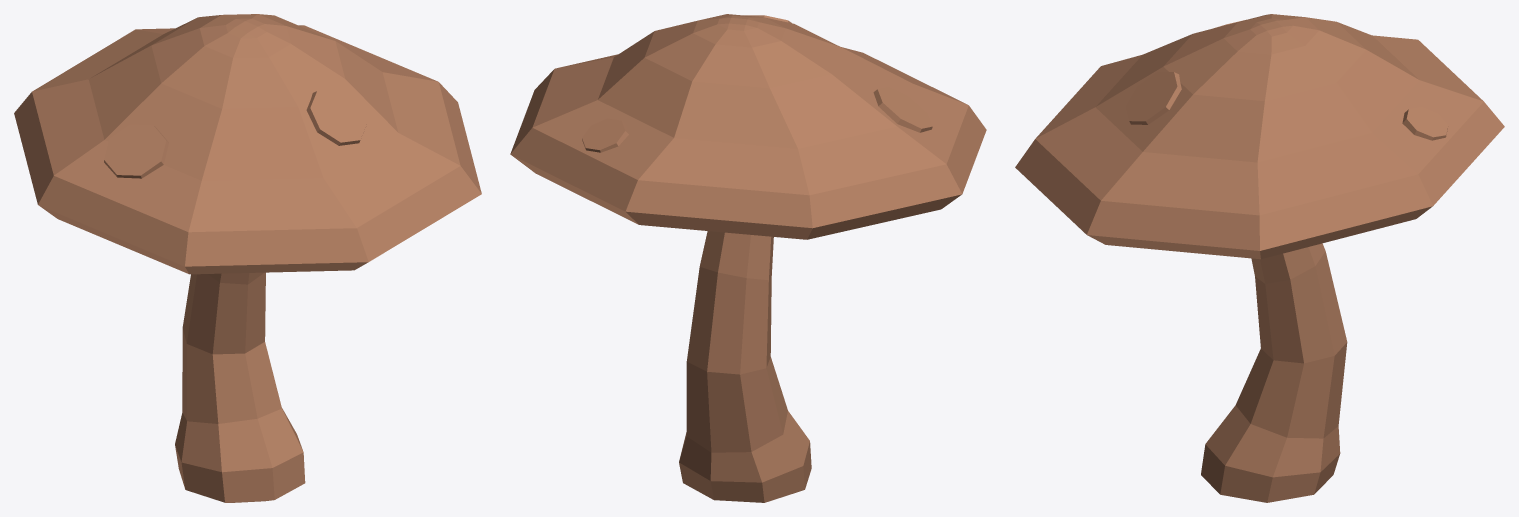
The model's file is shroom.obj.
The picture shows the model from 3 angles, left to right: view 1: azimuth 30°, elevation 25°; view 2: azimuth 150°, elevation 25°; view 3: azimuth 270°, elevation 25°; orthographic projection.
Visible parts, largest first — view 1: mushroom_Circle_006; view 2: mushroom_Circle_006; view 3: mushroom_Circle_006.
Boxes of the visible parts, box(x1,y1,x2,y2) form: mushroom_Circle_006: box(14, 14, 481, 502); mushroom_Circle_006: box(510, 14, 986, 502); mushroom_Circle_006: box(1015, 14, 1504, 502).
Size of the model in its own units: 9.59 by 9.98 by 9.55.
